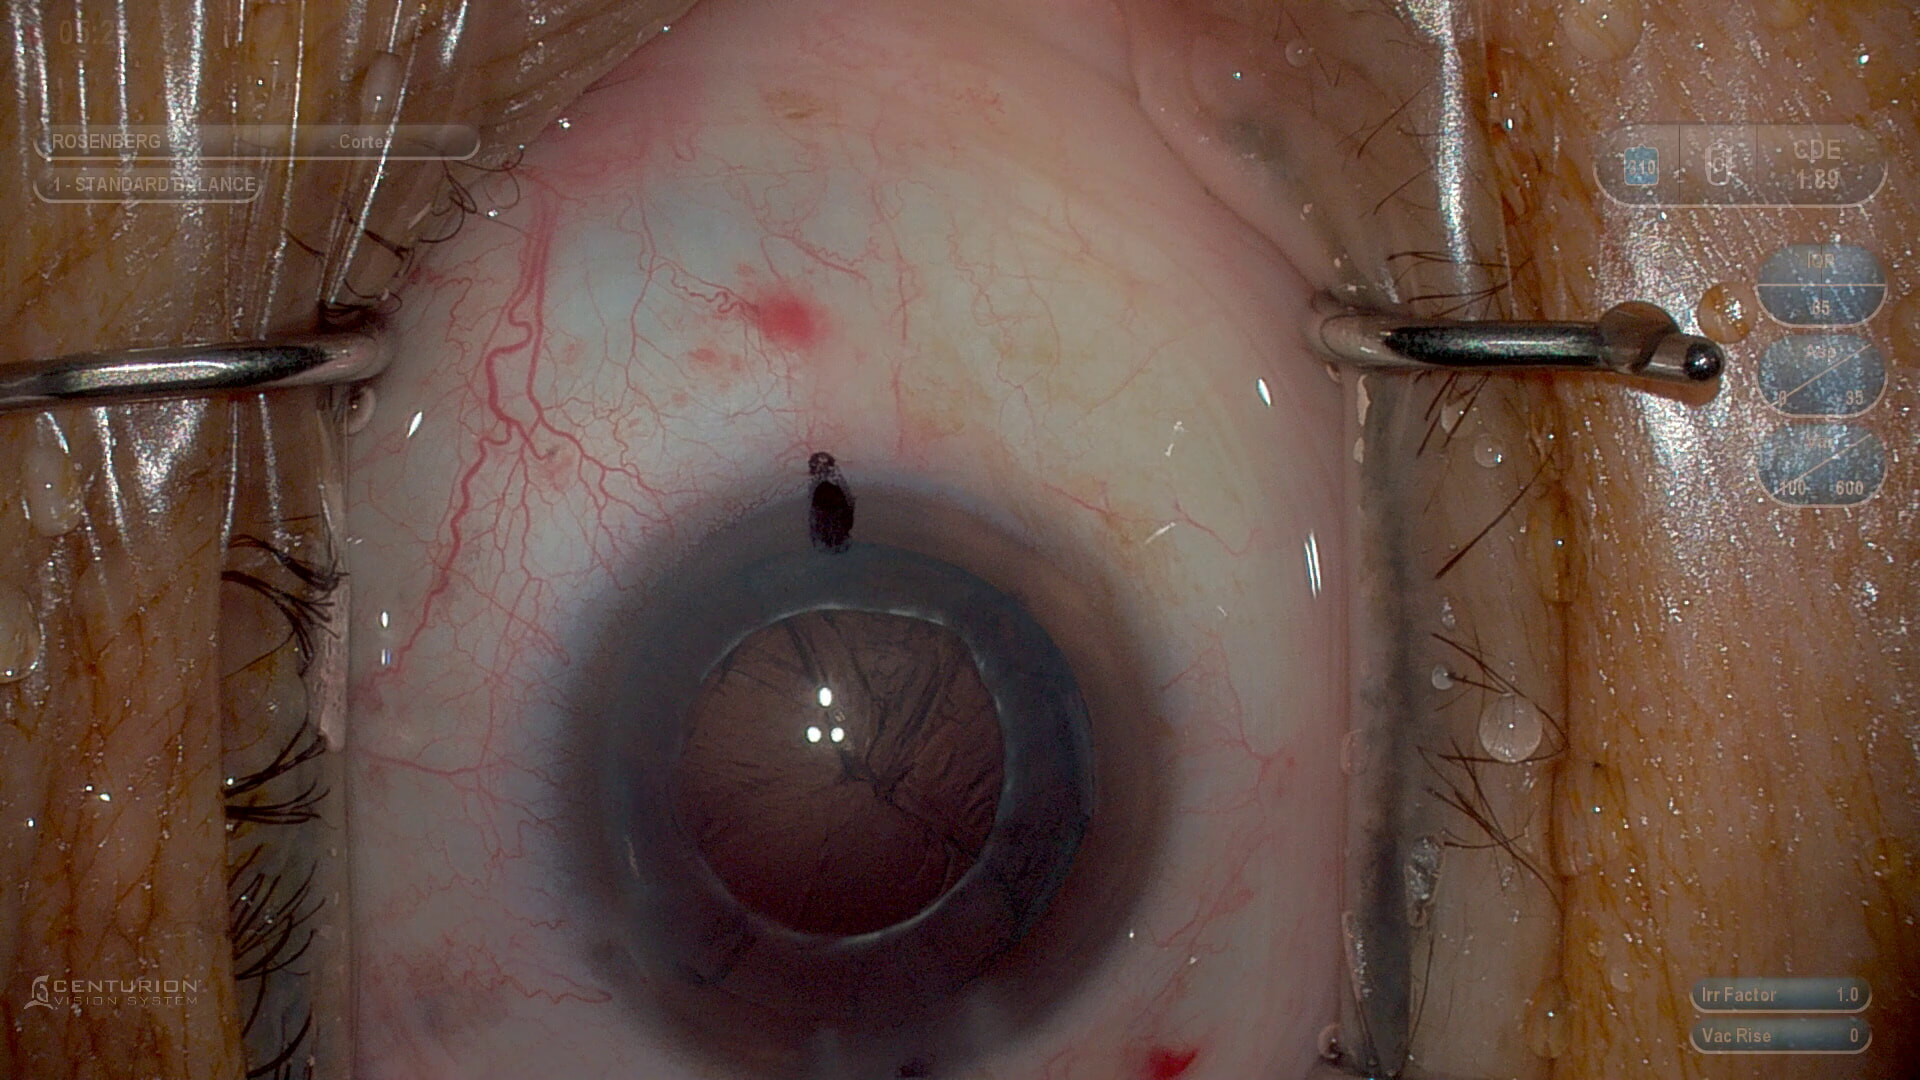iris: (564, 485, 1172, 1080)
pupil: (662, 607, 1023, 955)
